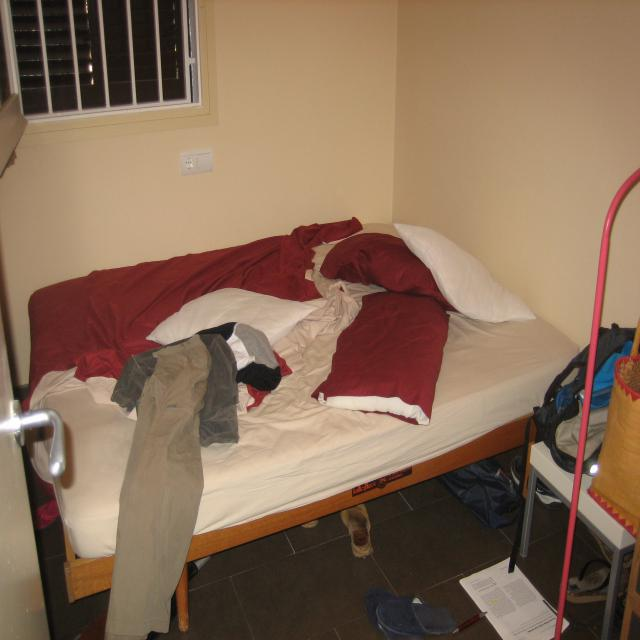2001: (6, 1, 202, 123)
bed -occluded-: (18, 220, 584, 637)
cloth: (196, 323, 290, 448)
door entrance: (0, 305, 50, 640)
knob: (12, 397, 65, 480)
pants: (106, 335, 213, 636)
pilow: (313, 224, 540, 419)
power outlet: (179, 148, 213, 175)
